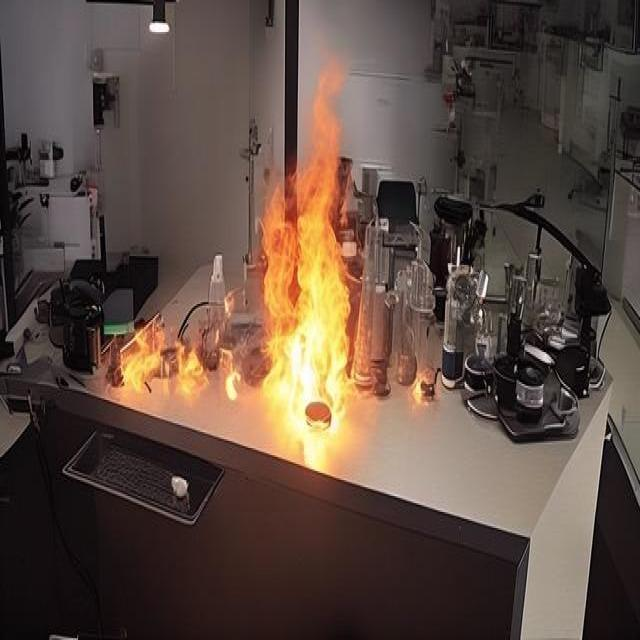smoke: (235, 50, 356, 432), (116, 311, 210, 402)
